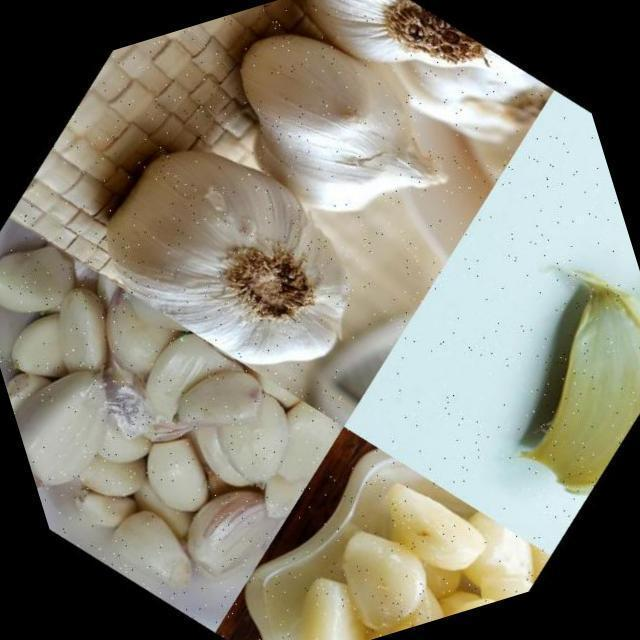garlic: (0, 141, 386, 640), (40, 52, 438, 456), (148, 0, 520, 317), (219, 423, 557, 640), (259, 0, 547, 196), (444, 251, 640, 527), (582, 204, 640, 368)
